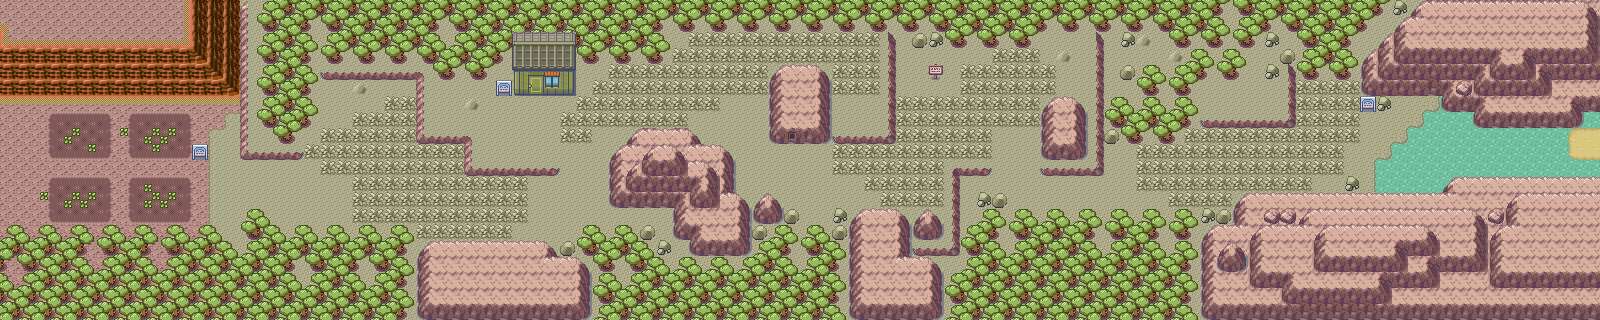normal_house: (509, 30, 579, 100)
